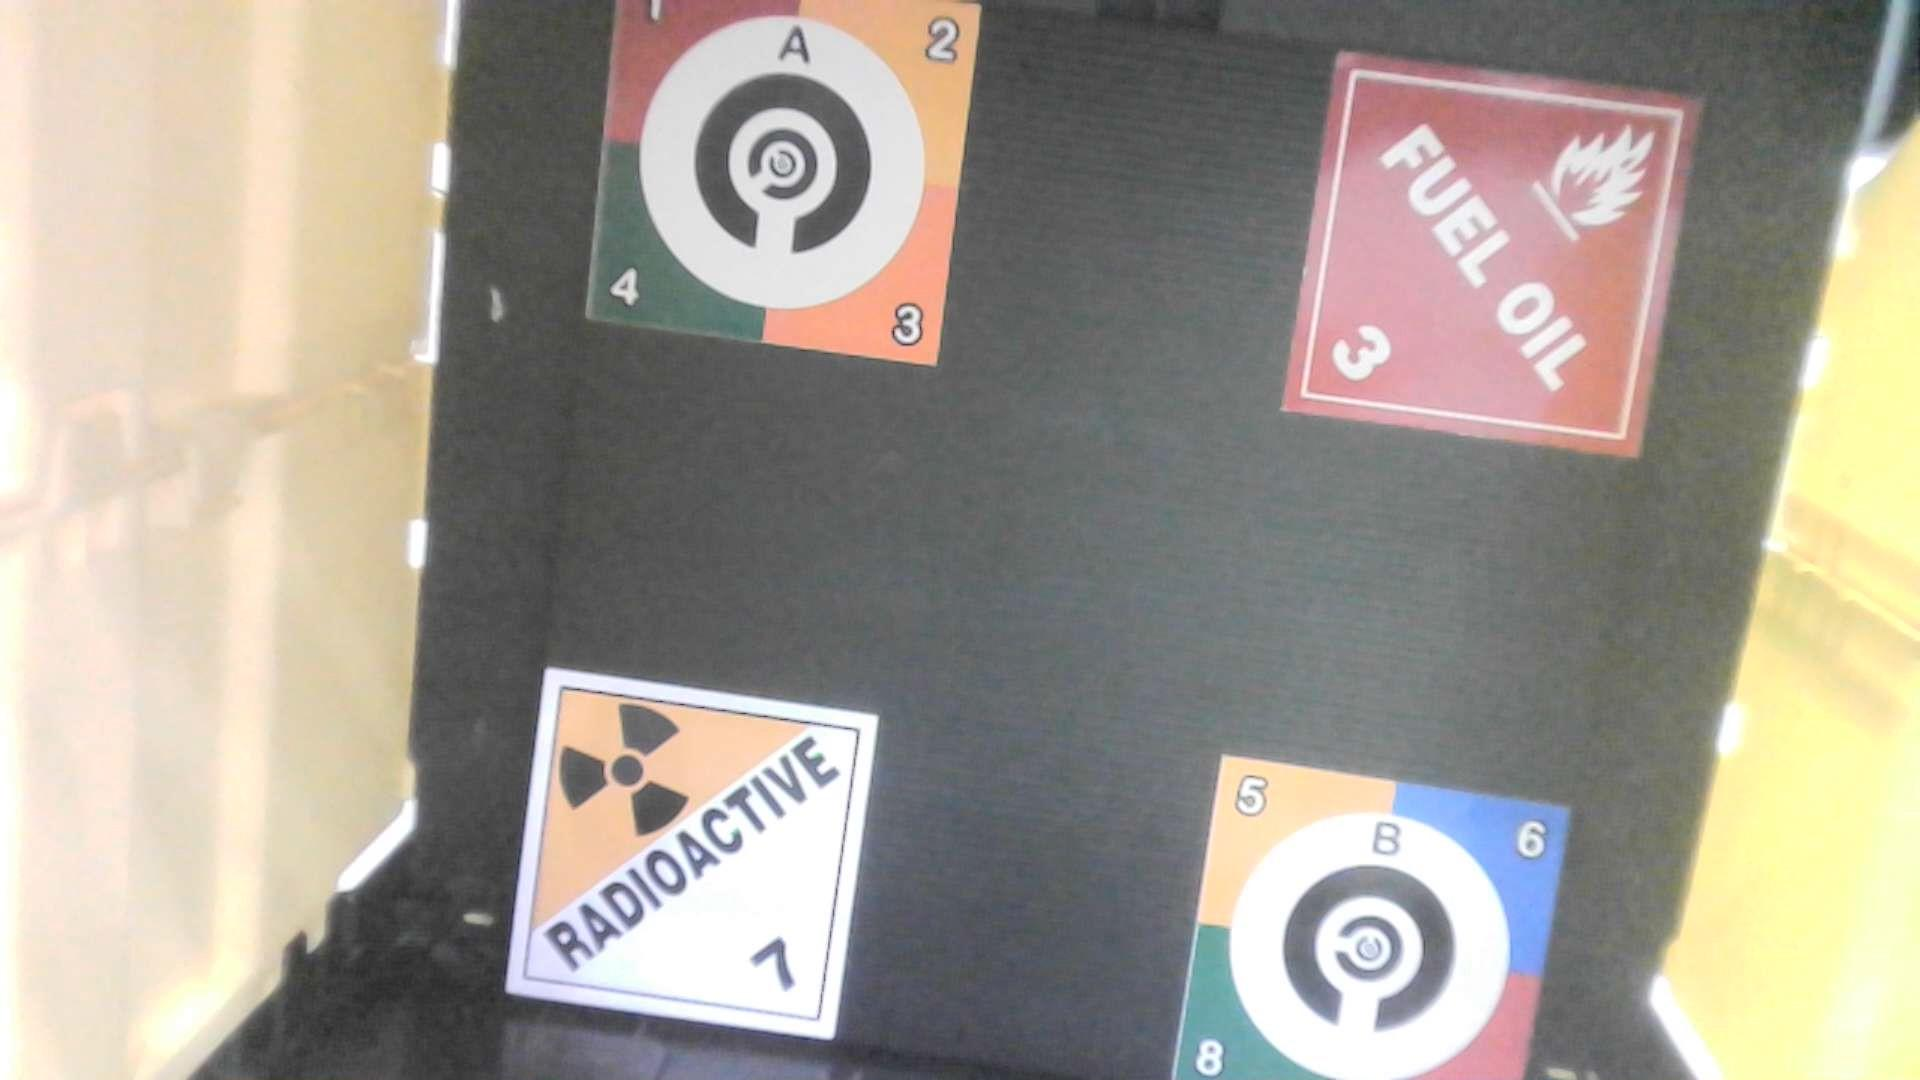flammable: (1274, 51, 1722, 462)
radioactive: (506, 665, 886, 1044)
